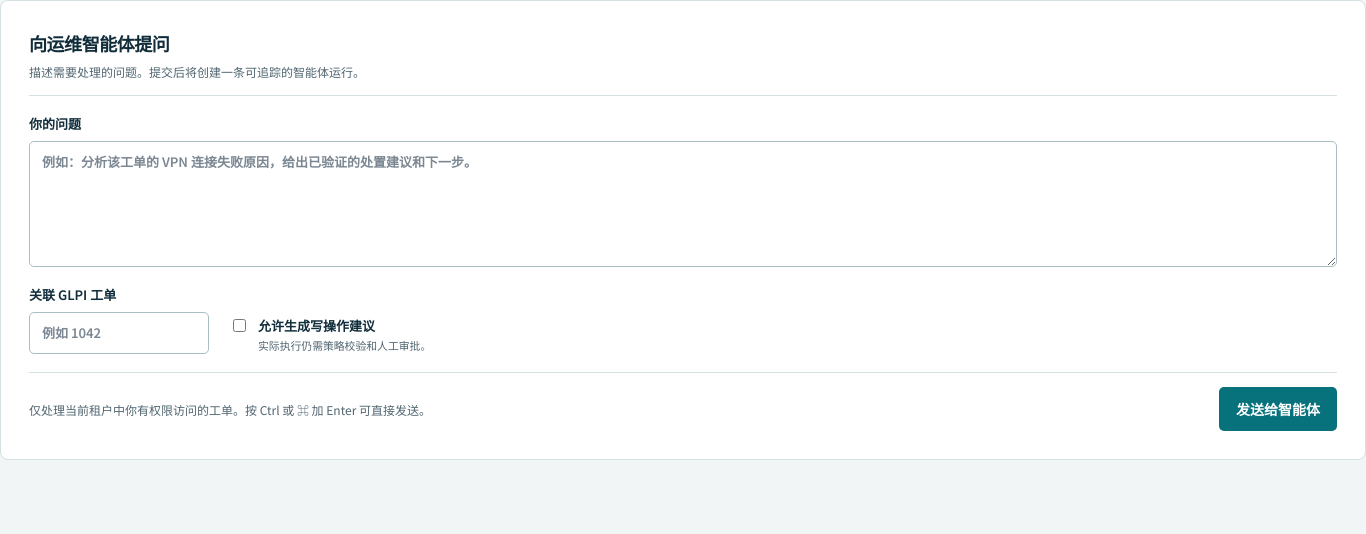
it: run submission intent › uses a new key when the submitted request changes
The image size is (1366, 534).
Later steps or results of the test are not shown.
Type "42" into the number field labelled "关联 GLPI 工单" at [119, 333], box [29,312,209,354]
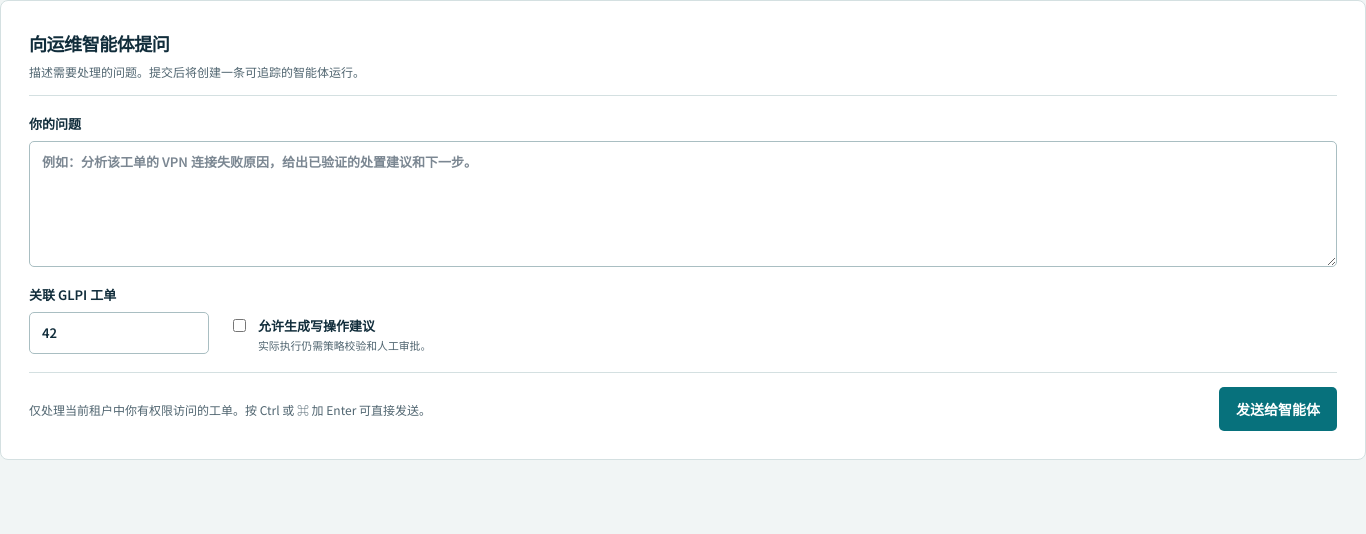
Type "分析 VPN 故障" into the text box labelled "你的问题" at [683, 204], box [29,141,1337,267]
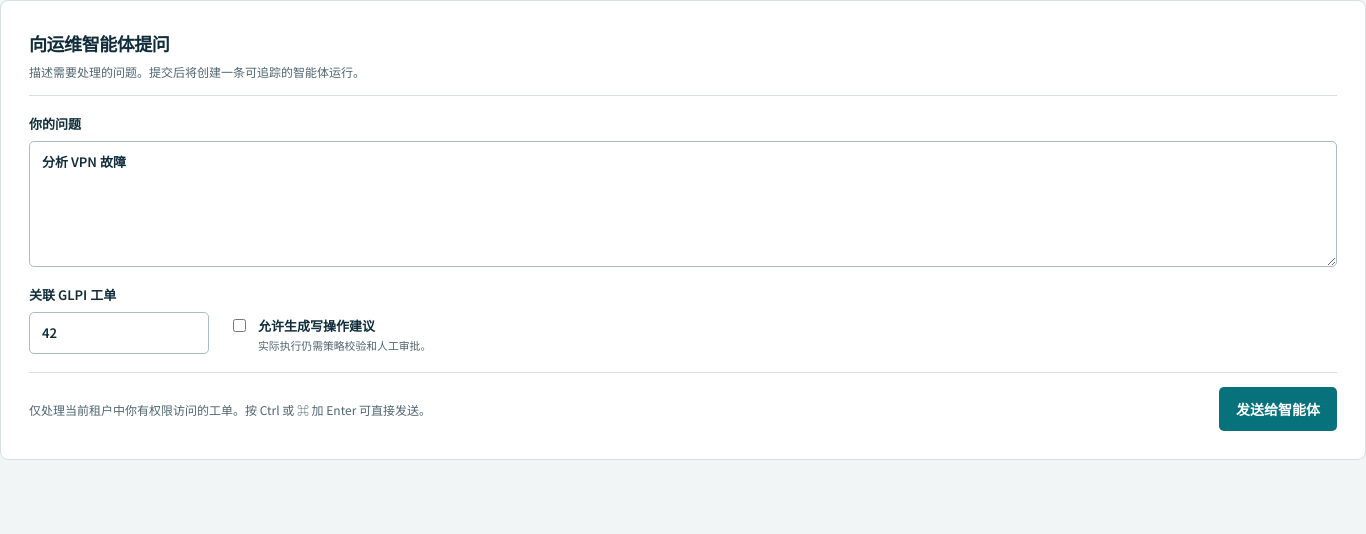
Submit the form
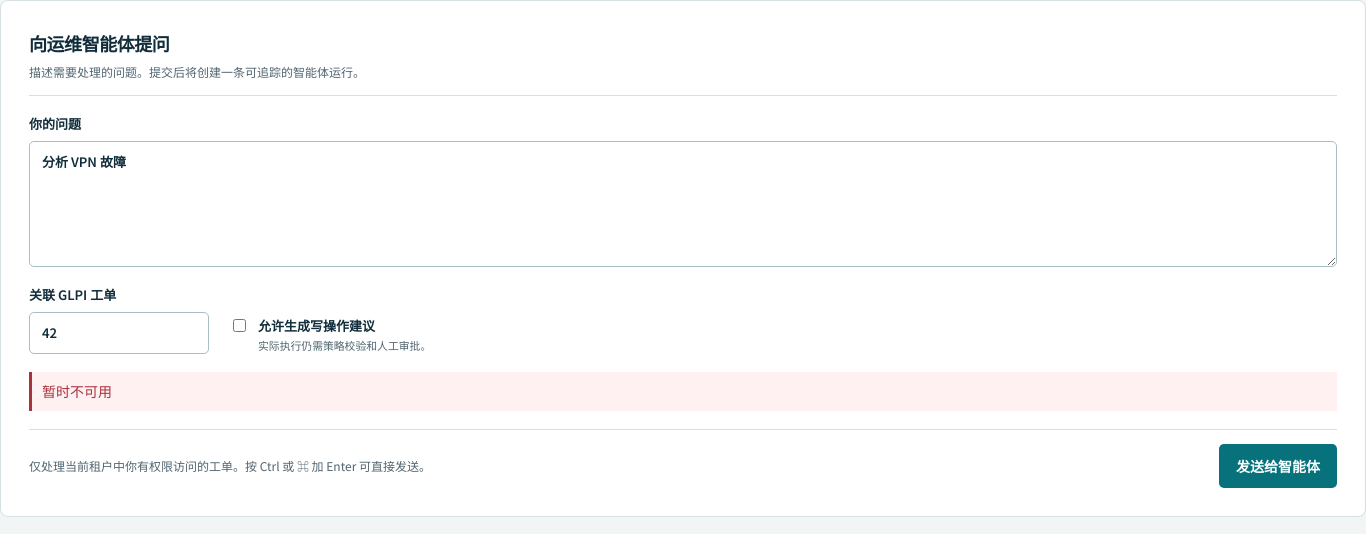
Check: the message "暂时不可用" is shown, box [29,372,1337,411]
